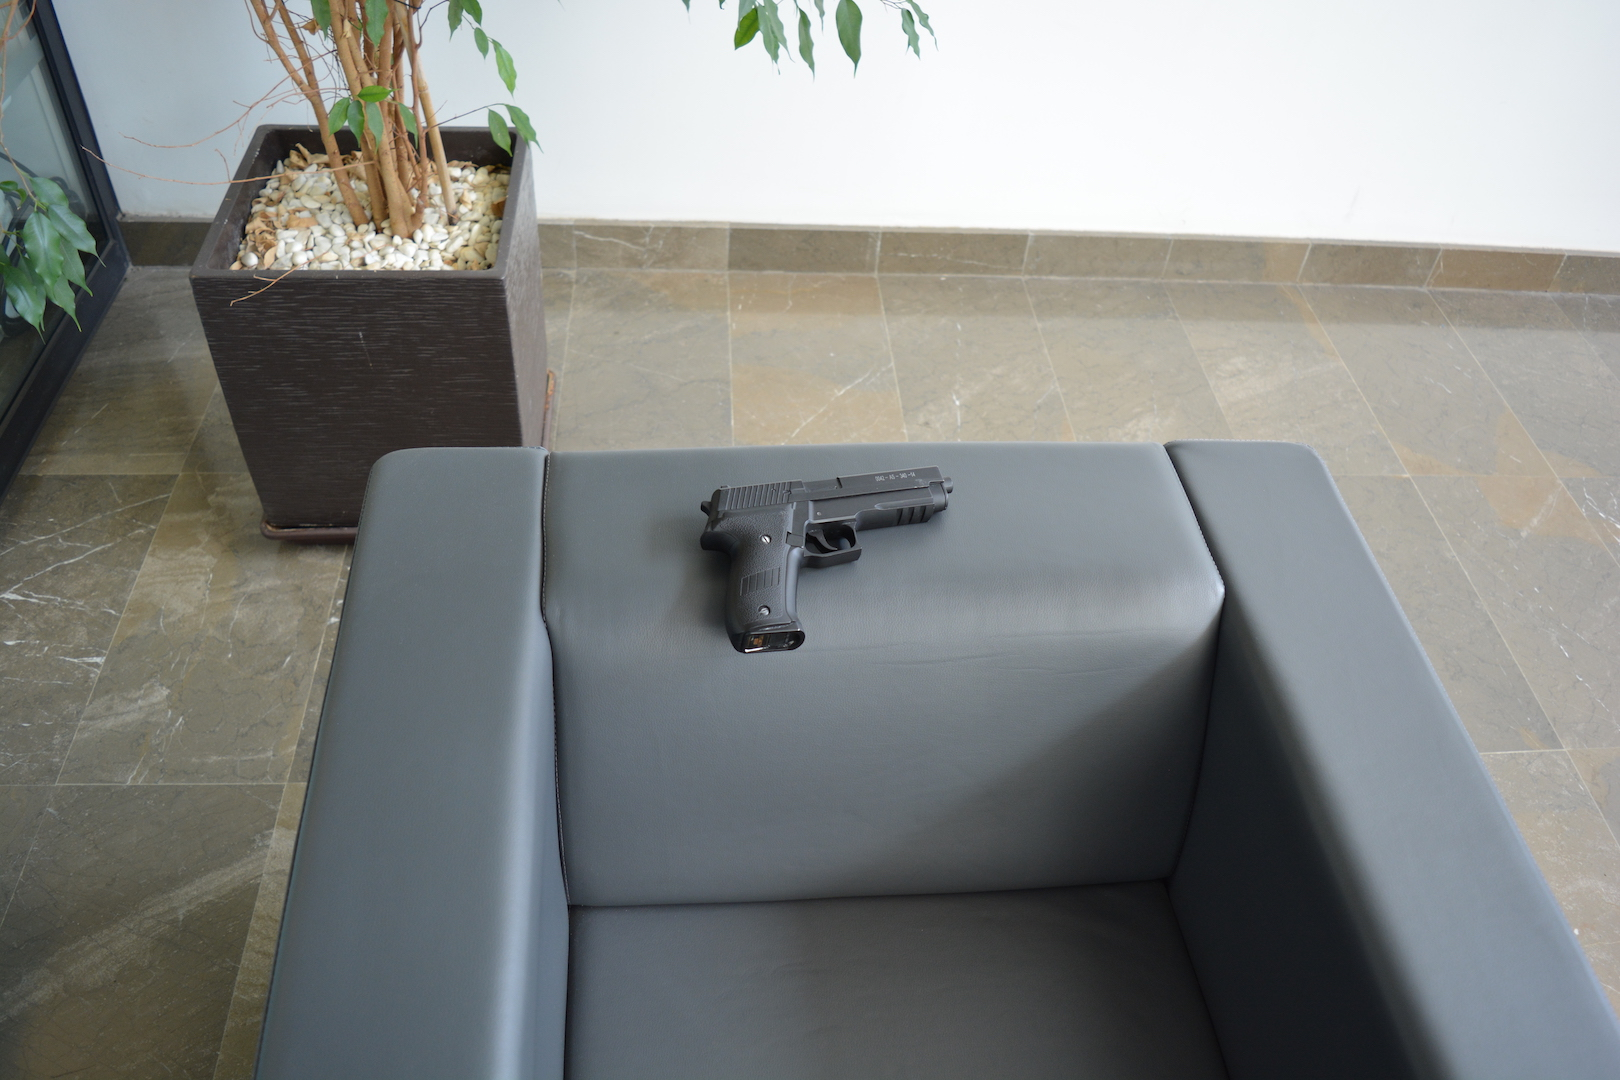pistol: (699, 464, 953, 655)
